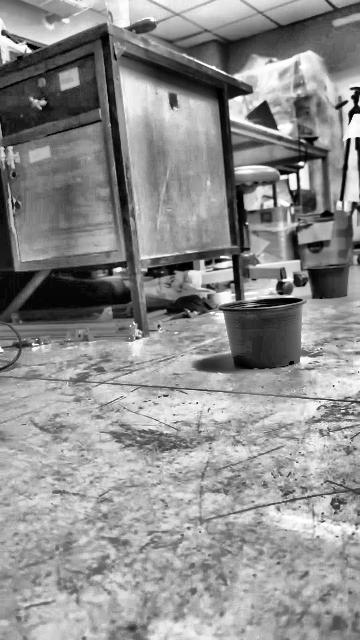pot: (219, 297, 305, 368), (307, 263, 351, 298)
